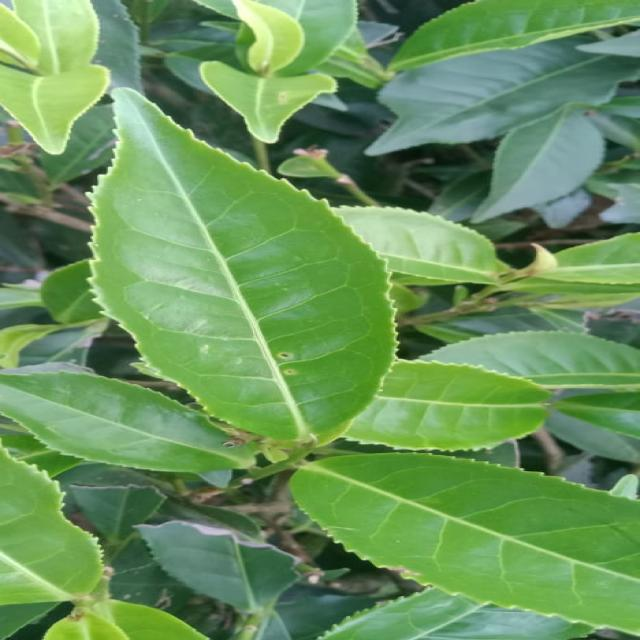Category B(2-4 days): (70, 73, 430, 455)
